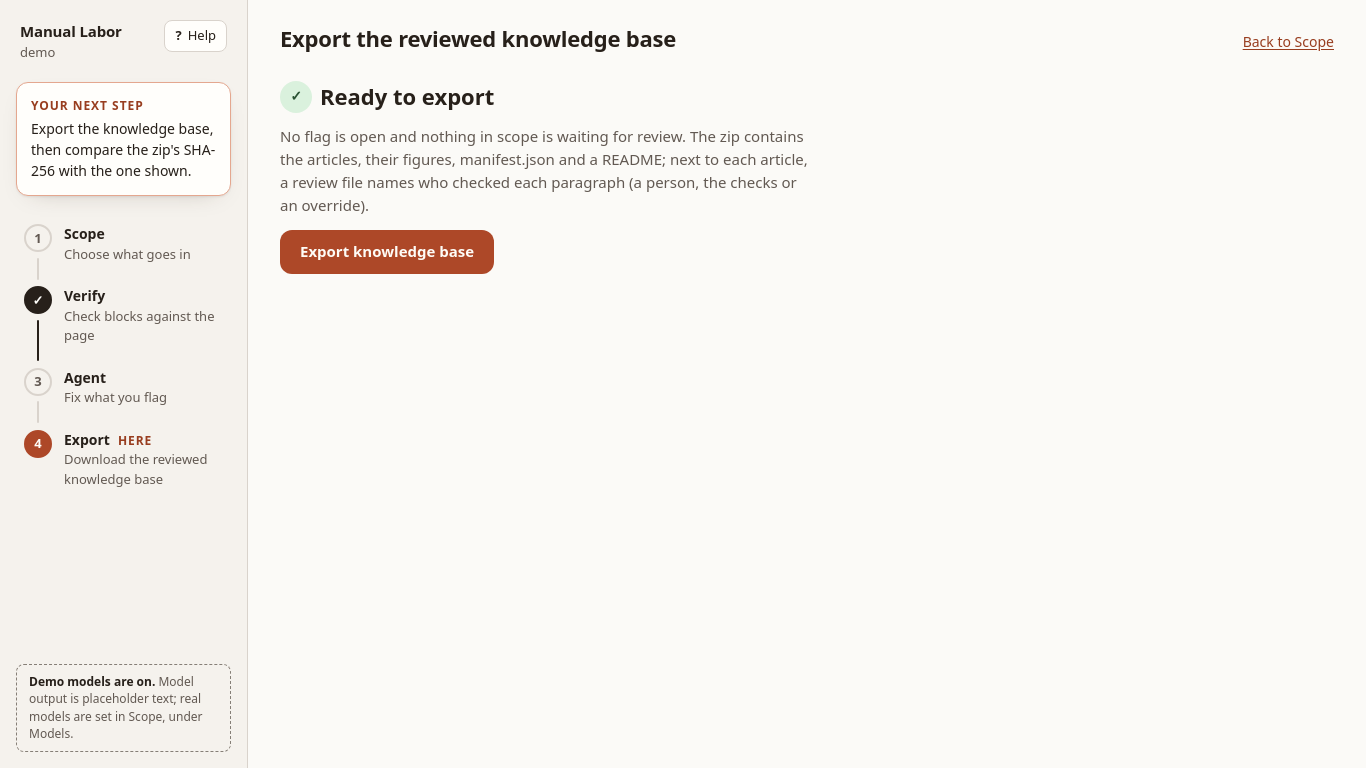
Test: U10 ExportScreen › unlocked: Export starts a job; a 409 renders the locked view from the refusal body
Click the button with test id "export-start". click: (387, 252)
box: x1=280 y1=230 x2=494 y2=274
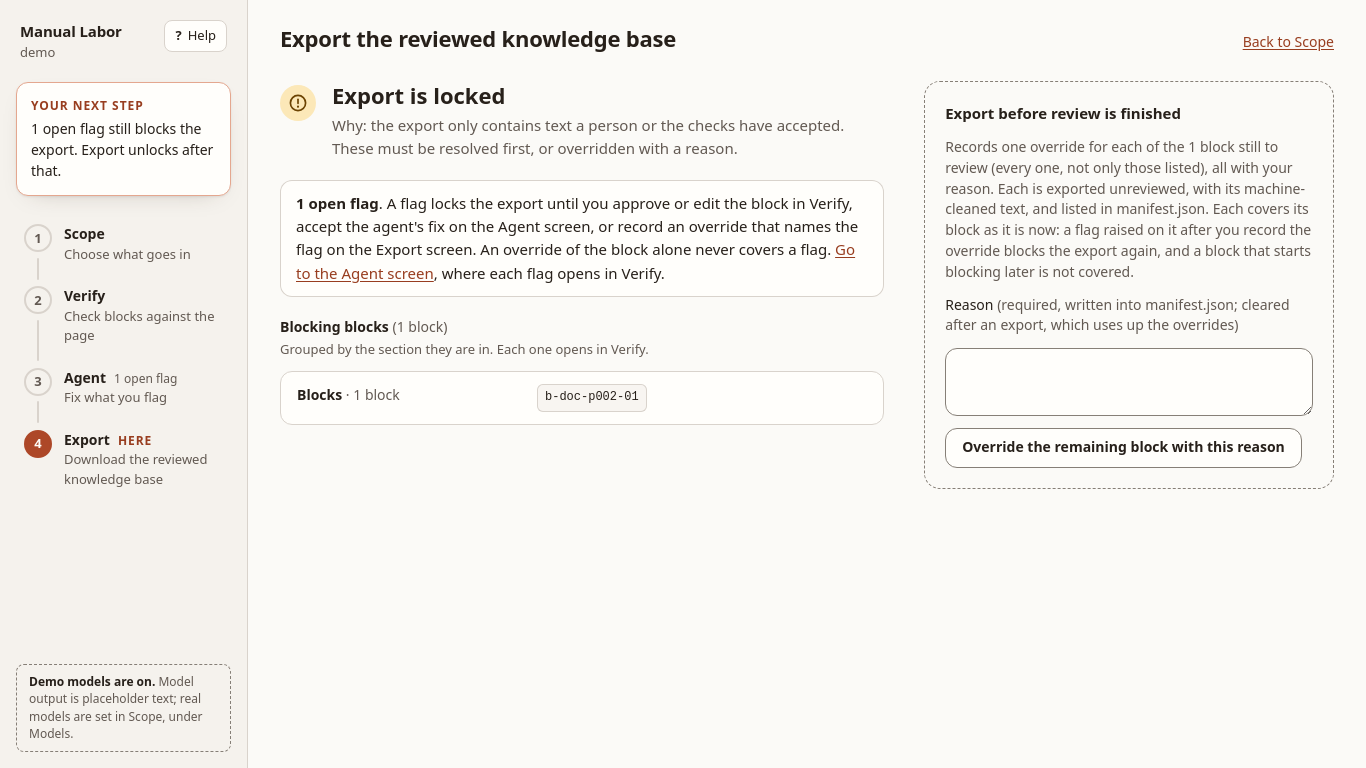
Now the list item with test id "reason-flags" shows "1 open flag", box x1=296 y1=193 x2=379 y2=213
Now the link with test id "blocker-link" reads "b-doc-p002-01", box x1=537 y1=384 x2=647 y2=412
